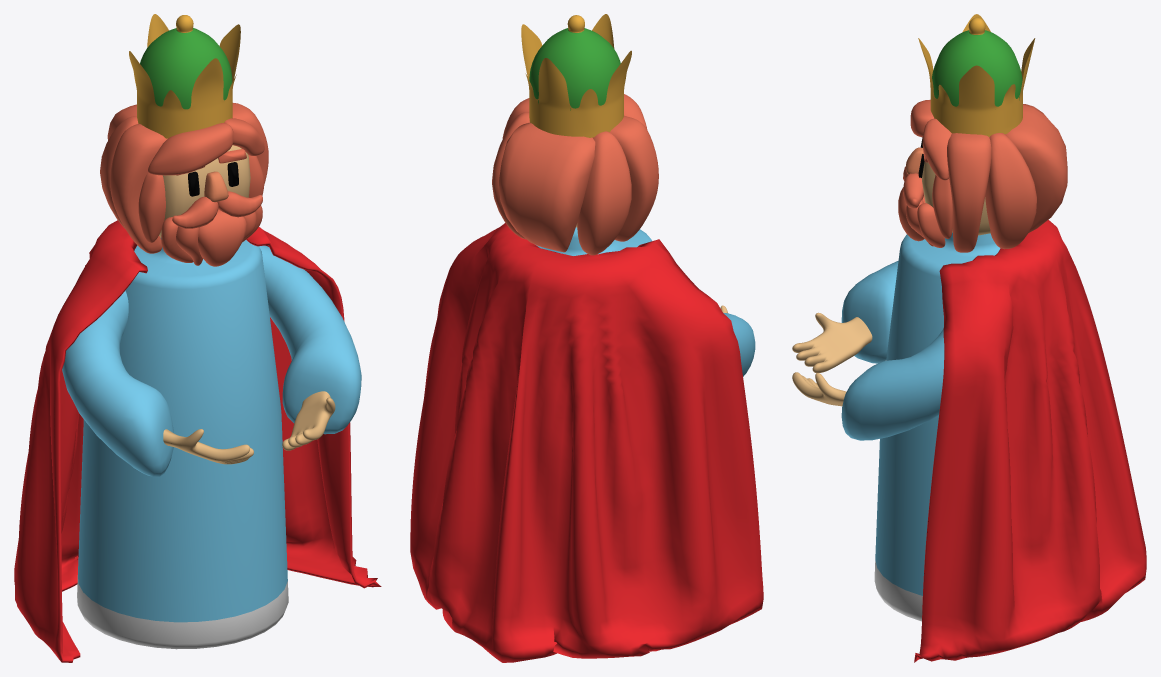
File: Gaspar.fbx
The picture shows the model from 3 angles, left to right: view 1: azimuth 30°, elevation 25°; view 2: azimuth 150°, elevation 25°; view 3: azimuth 270°, elevation 25°; orthographic projection. The views are drawn at different scales.
Parts seen in each view (by area): view 1: Gaspar; view 2: Gaspar; view 3: Gaspar.
Part boxes in pixels (x1,y1,x2,y2): Gaspar: (14,14,381,662); Gaspar: (410,14,763,662); Gaspar: (792,14,1146,662).
Bounding box in the file's own units: 133 × 233 × 131.
